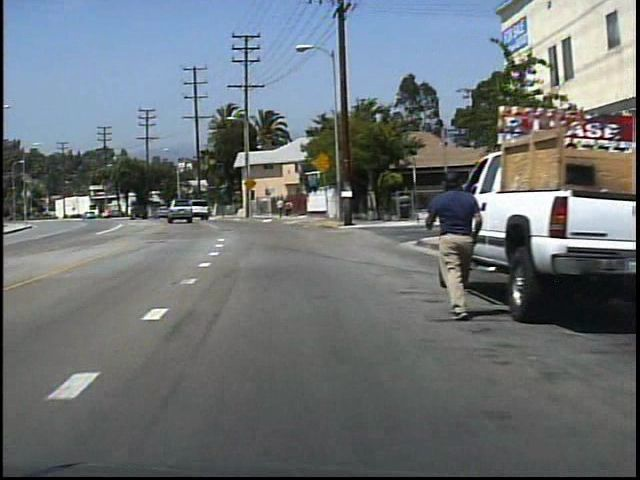person: (418, 167, 478, 321), (275, 196, 285, 220), (283, 198, 293, 219)
